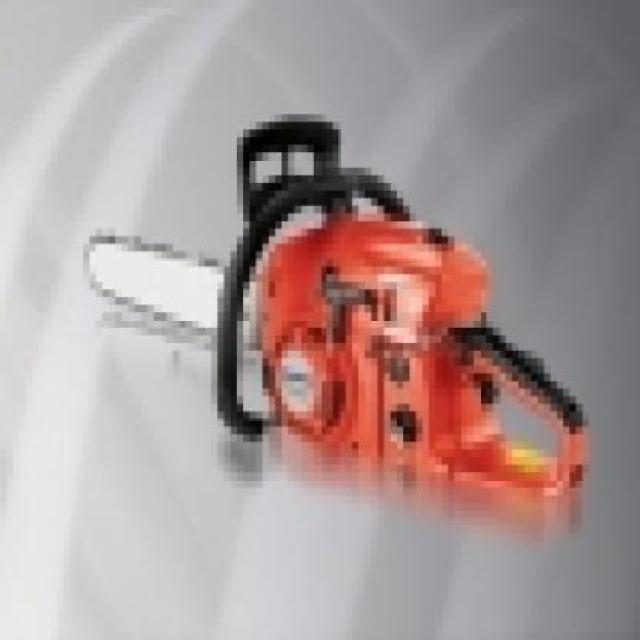Chainsaw: (82, 109, 589, 506)
